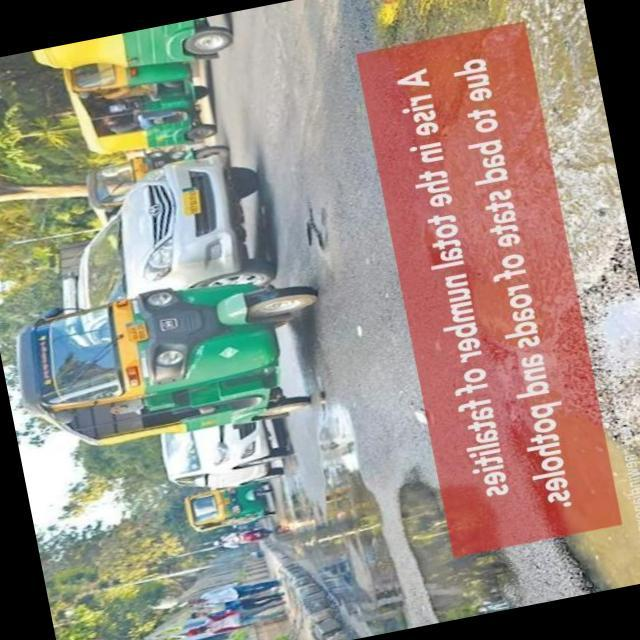pothole: (361, 0, 640, 365), (496, 379, 640, 598)
